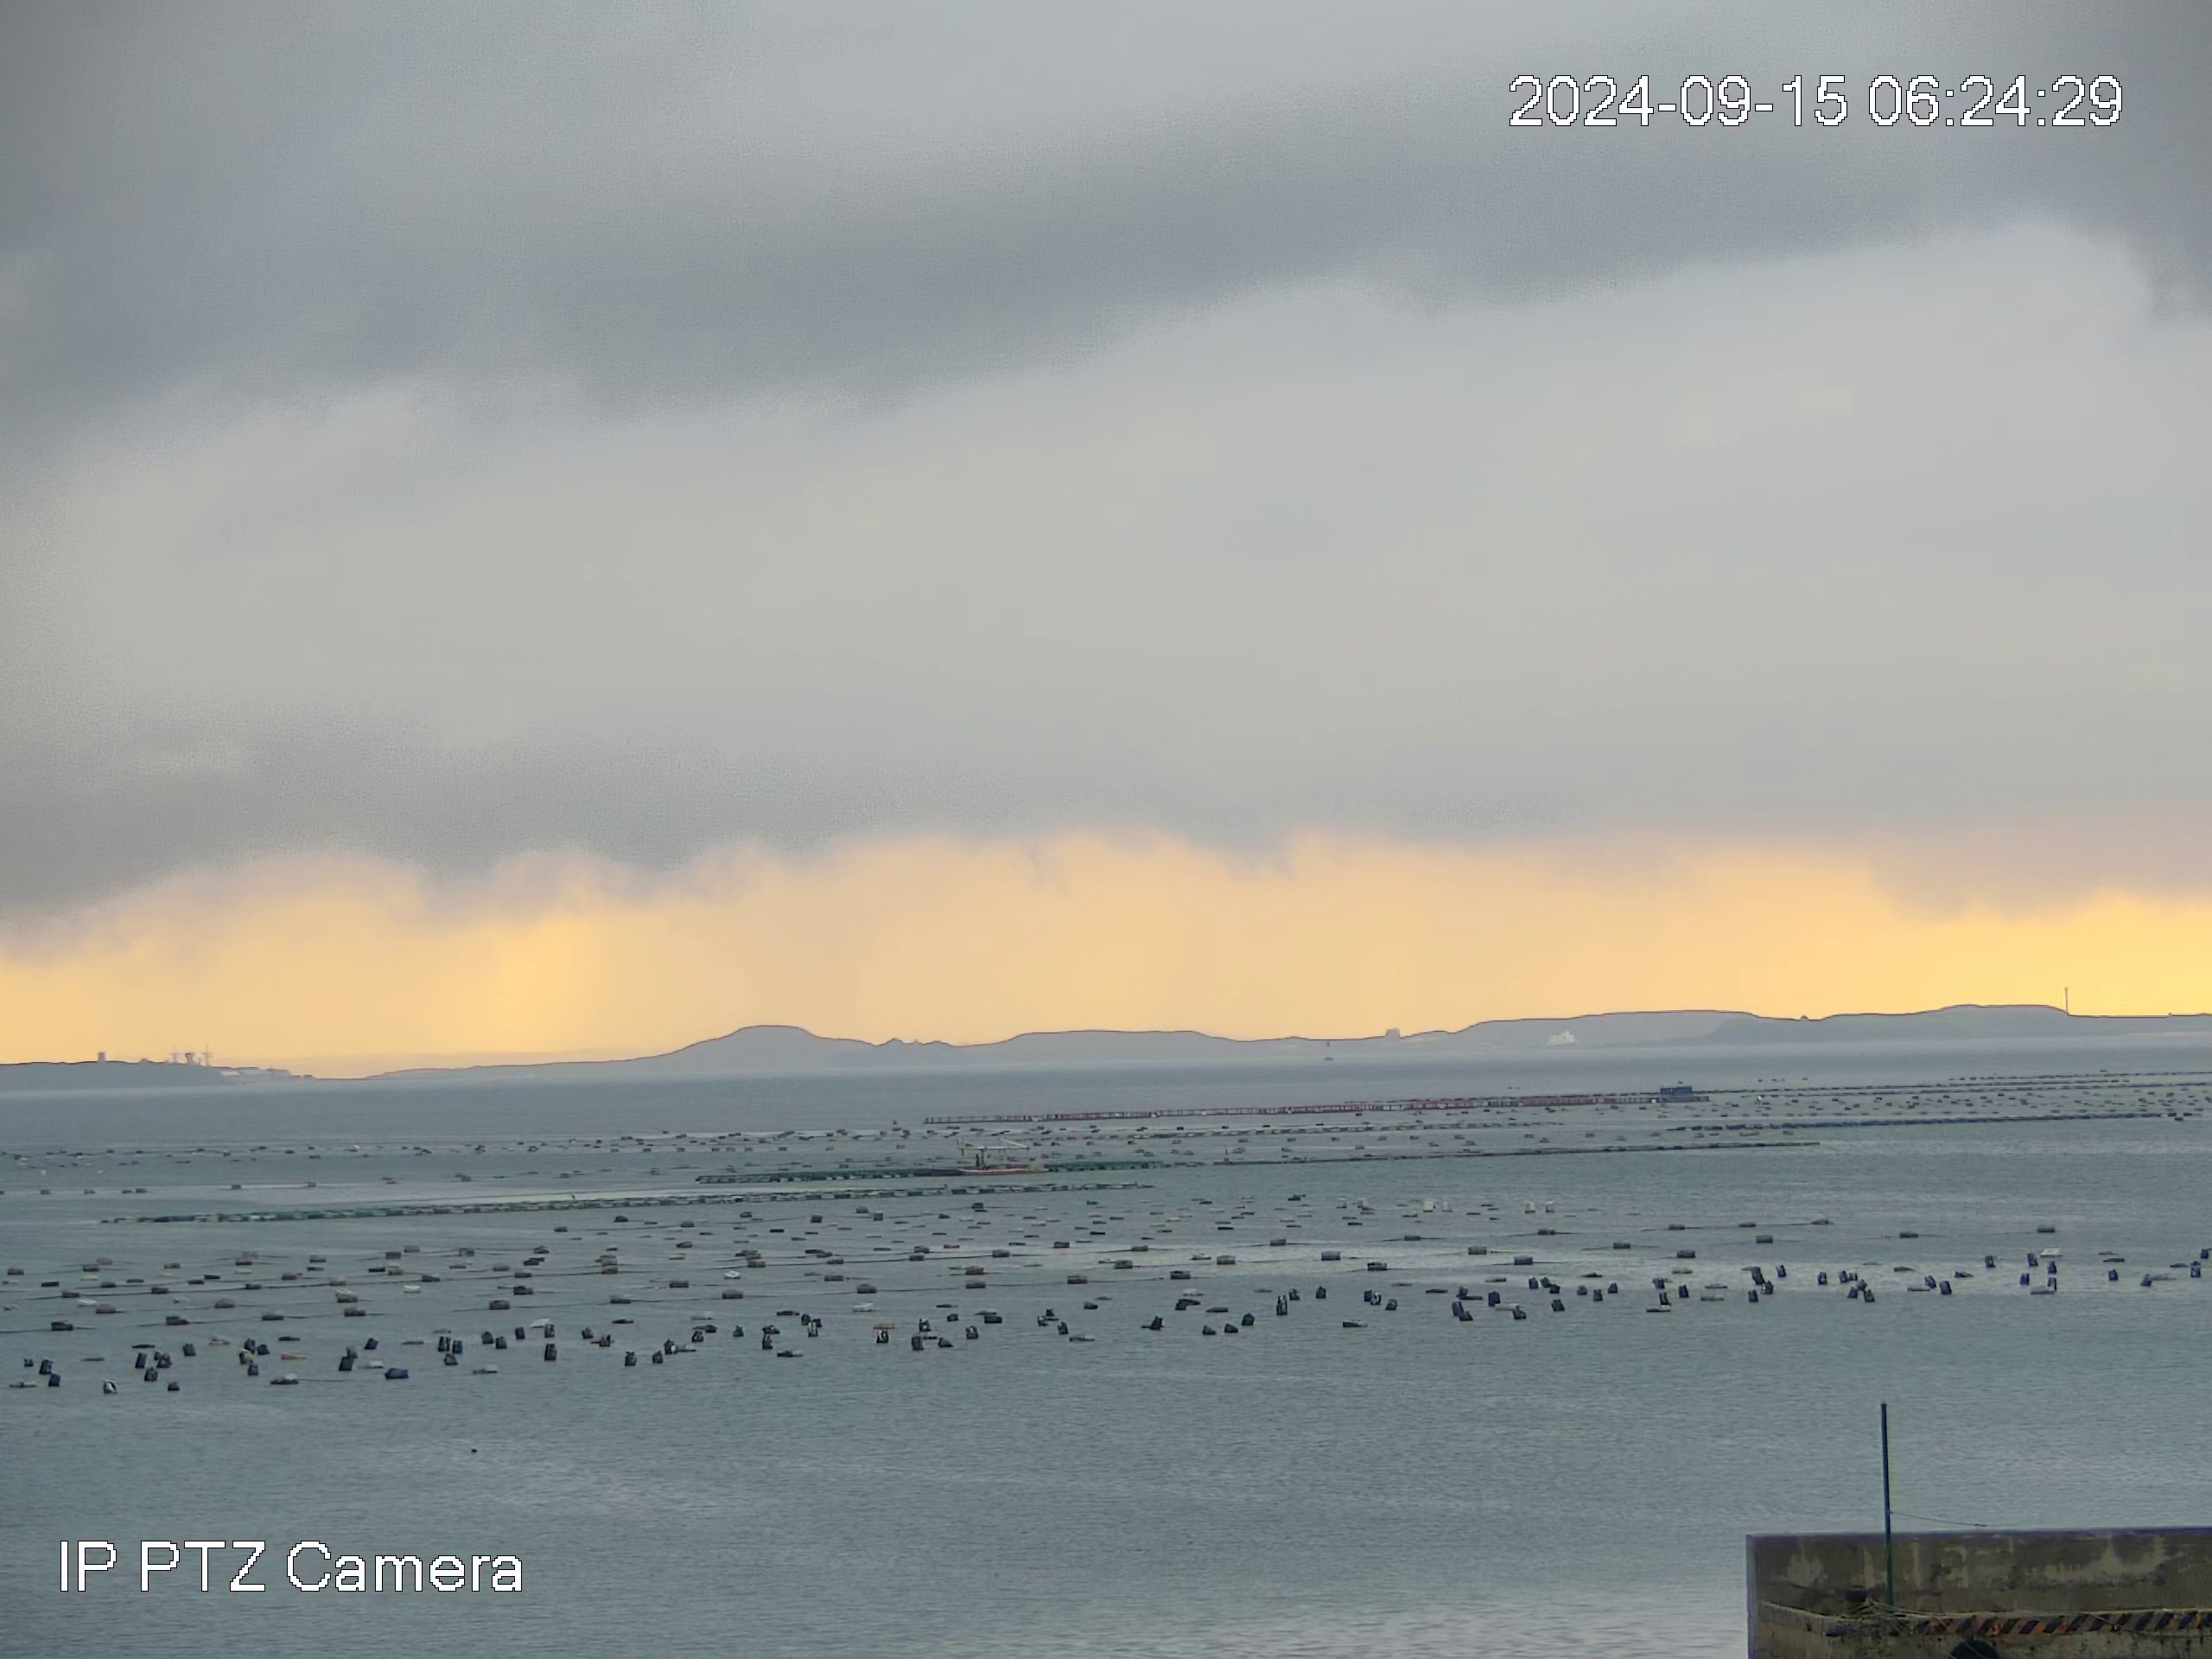boat: (954, 1131, 1050, 1176)
